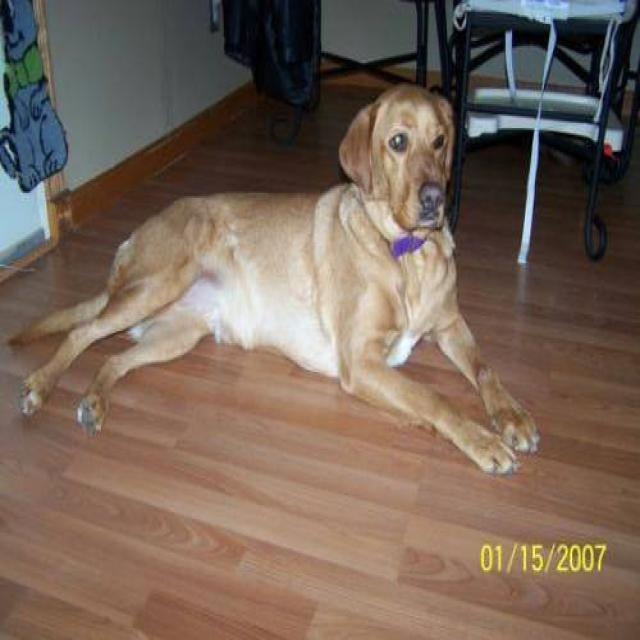dog: (8, 80, 540, 476)
